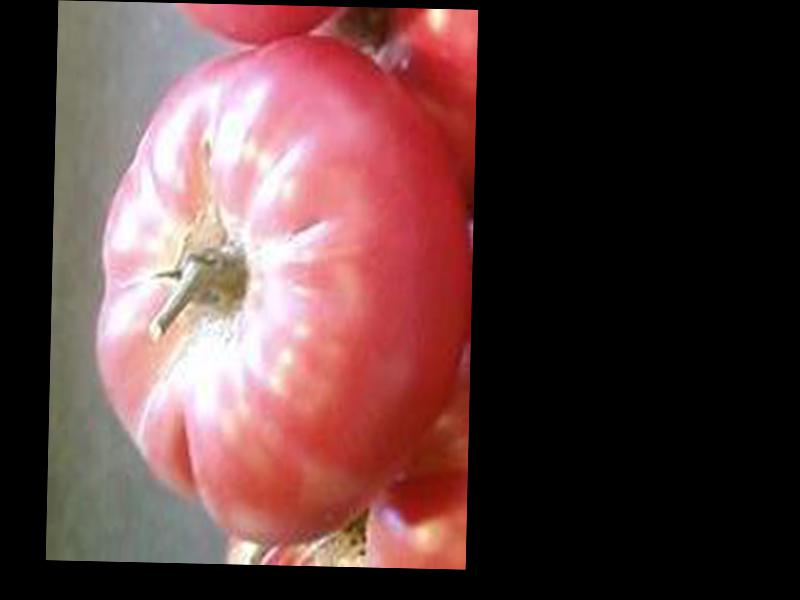Tomato: (93, 31, 475, 552)
